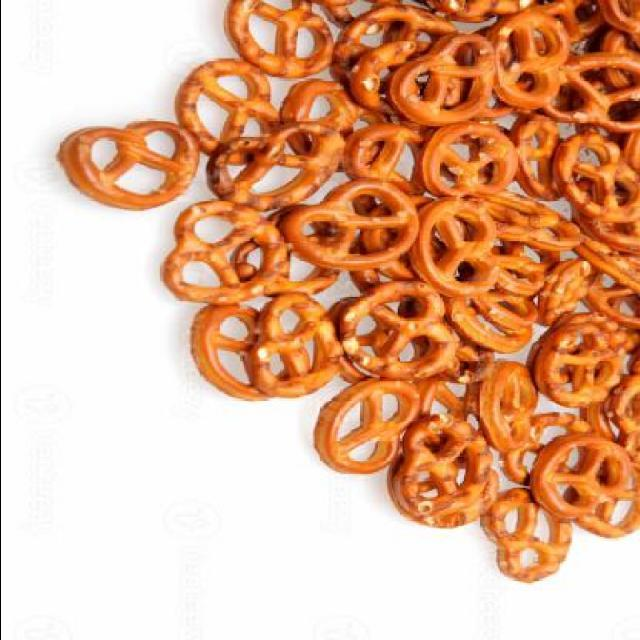Salatini packaged: (57, 2, 640, 582)
